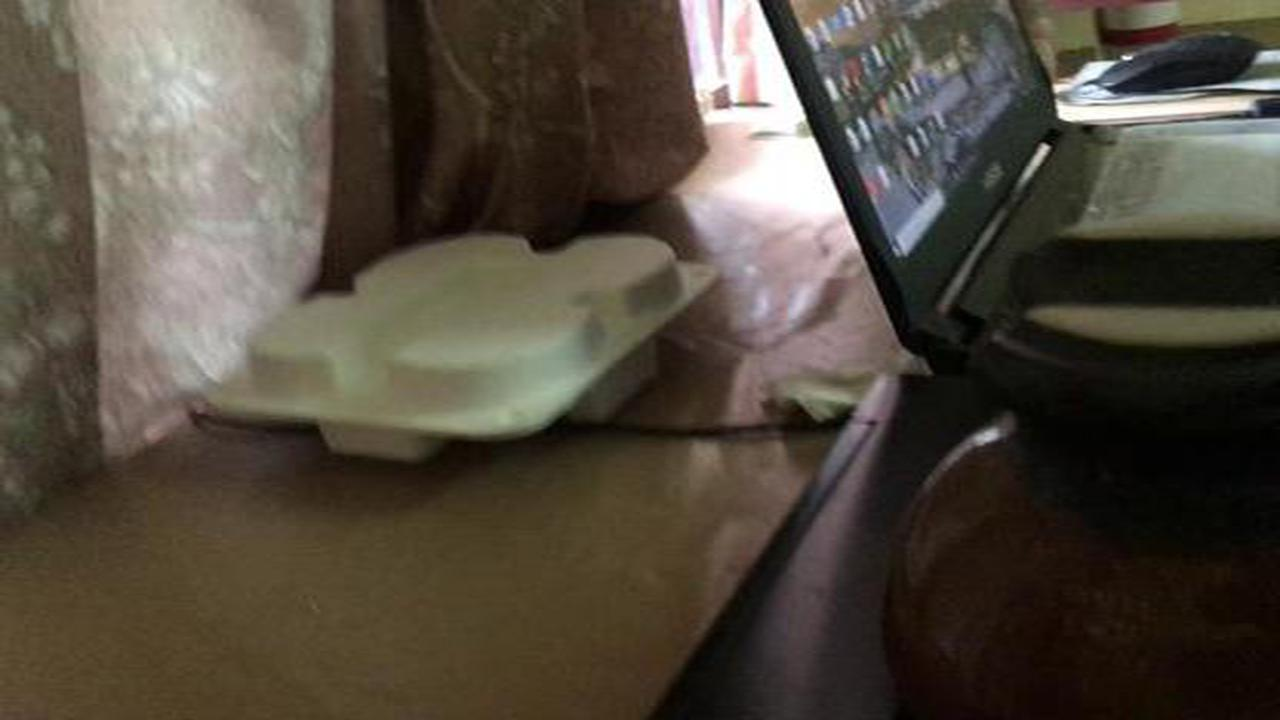insulator_pin: (868, 201, 1280, 720)
